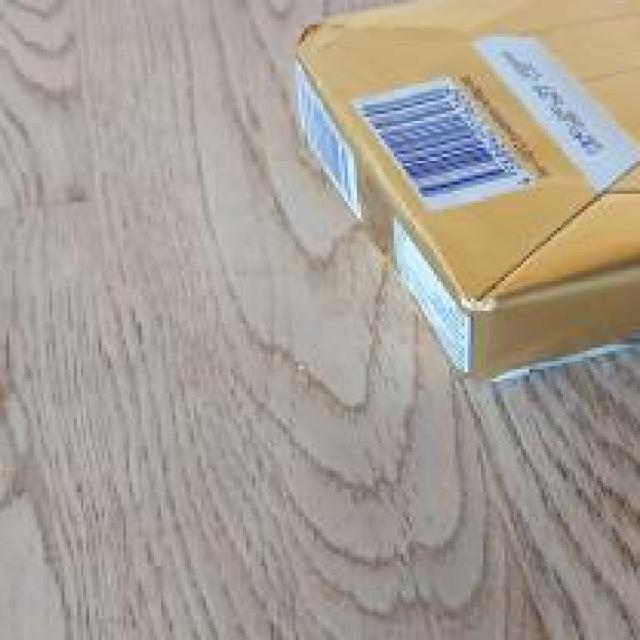butter: (283, 0, 640, 388)
